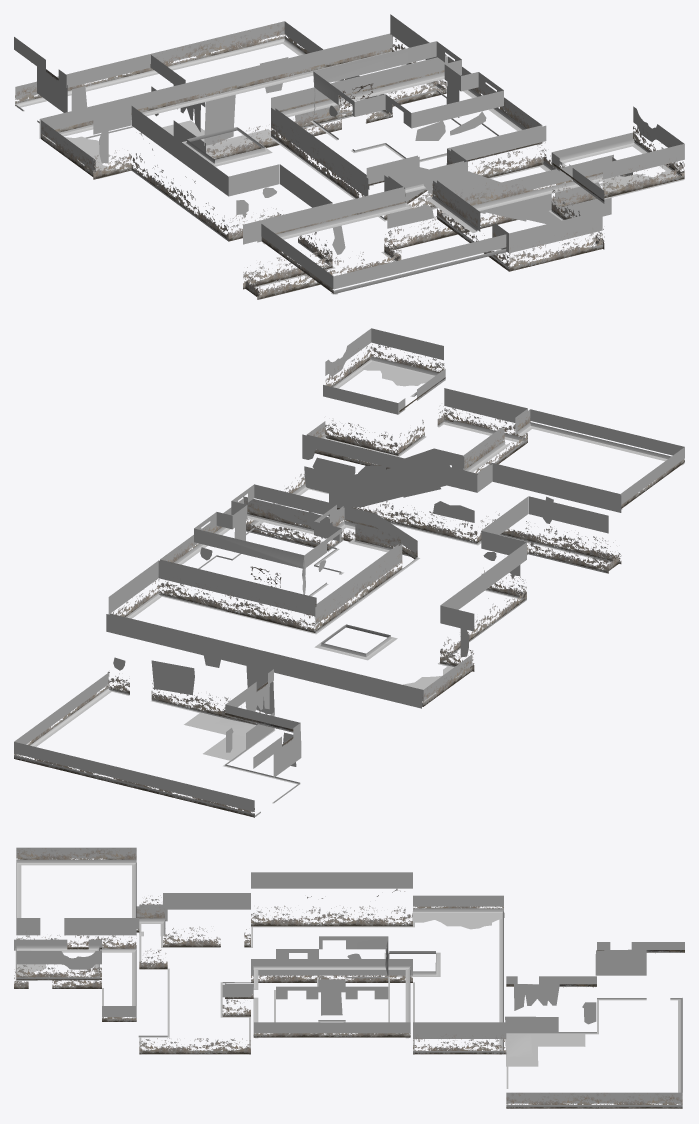
File: RoofExterior_Decals.FBX
3 renders of one model, top to bottom at view 1: azimuth 30°, elevation 25°; view 2: azimuth 150°, elevation 25°; view 3: azimuth 270°, elevation 25°, orthographic. The views are drawn at different scales.
Visible parts, largest first — view 1: RoofExterior_Decals; view 2: RoofExterior_Decals; view 3: RoofExterior_Decals.
Boxes of the visible parts, x1,y1,x2,y2 form: RoofExterior_Decals: (14,14,684,299); RoofExterior_Decals: (14,328,684,817); RoofExterior_Decals: (14,847,684,1108).
Size of the model in its own units: 1834 by 930 by 3586.
